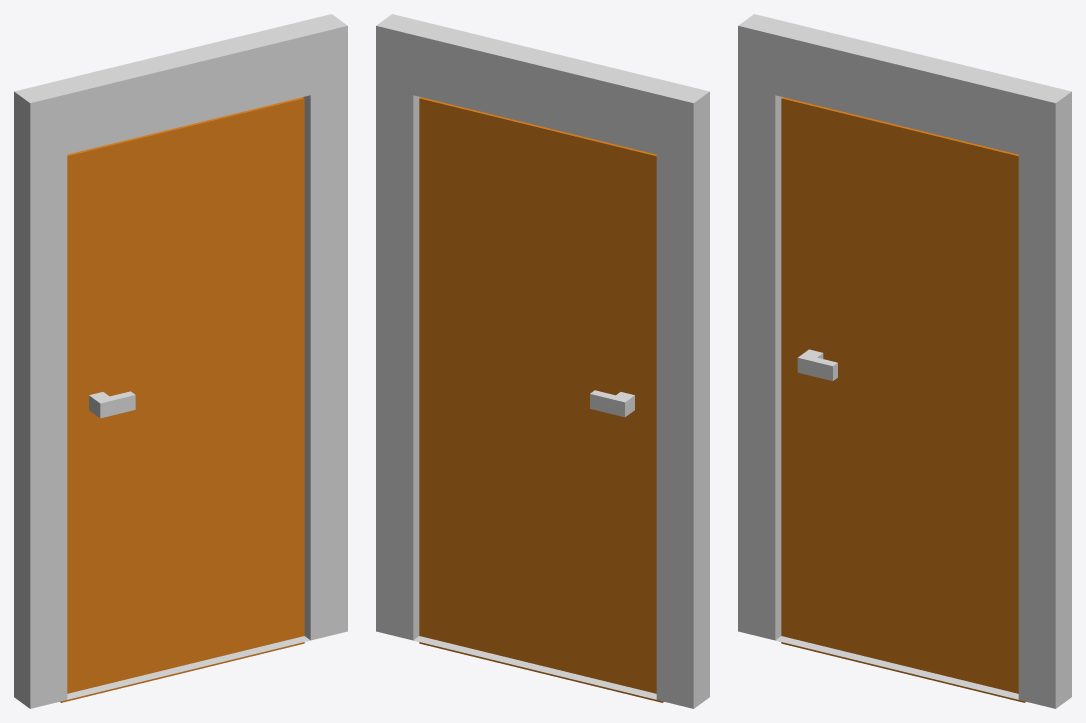
The model's file is DOOOOOOOR.glb.
The picture shows the model from 3 angles, left to right: view 1: azimuth 30°, elevation 25°; view 2: azimuth 150°, elevation 25°; view 3: azimuth 330°, elevation 25°; orthographic projection.
Visible parts, largest first — view 1: Cube.001, Cube, Cube.002; view 2: Cube.001, Cube, Cube.002; view 3: Cube.001, Cube, Cube.002.
Boxes of the visible parts, bbox=[...] form: Cube.001: bbox=[60, 97, 304, 702]; Cube: bbox=[14, 14, 347, 708]; Cube.002: bbox=[89, 391, 135, 418]; Cube.001: bbox=[419, 97, 663, 702]; Cube: bbox=[376, 14, 709, 708]; Cube.002: bbox=[590, 390, 634, 417]; Cube.001: bbox=[781, 97, 1025, 702]; Cube: bbox=[738, 14, 1071, 708]; Cube.002: bbox=[797, 349, 837, 380].
Size of the model in its own units: 4.94 by 9.11 by 0.676.
